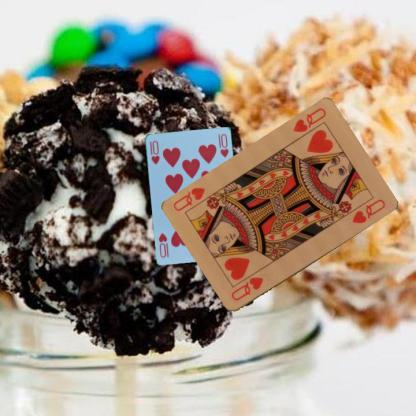10h: (146, 138, 160, 166)
Qh: (290, 105, 328, 134), (228, 274, 265, 303)
